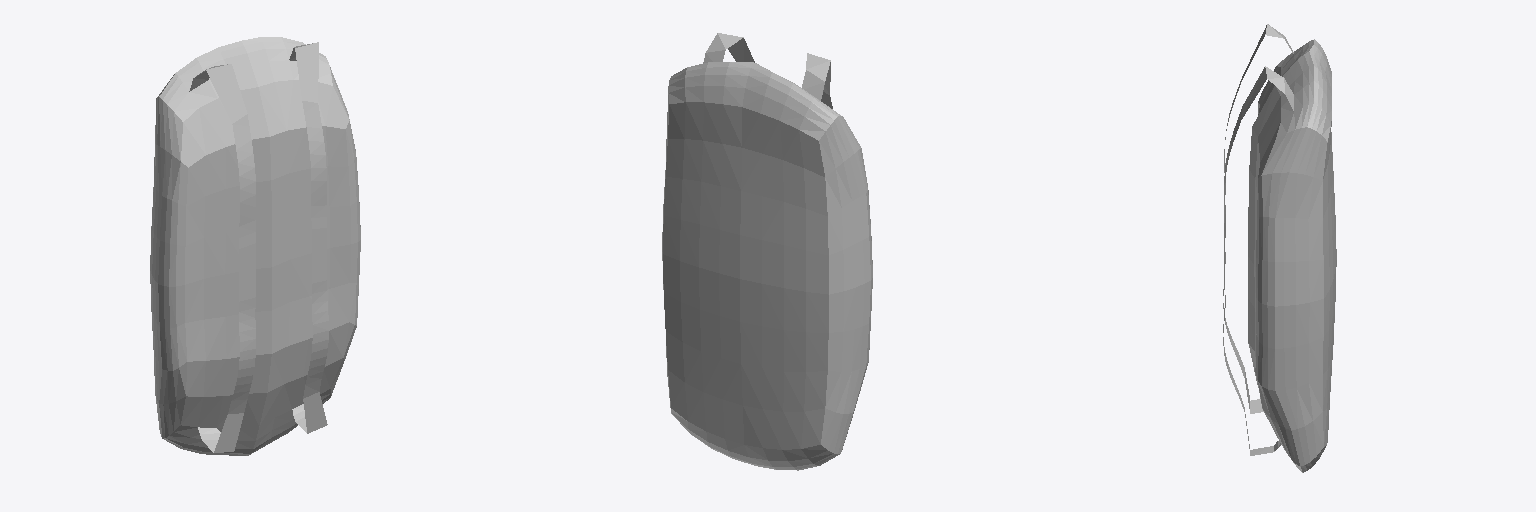
Rendered from backpack_3.obj.
3 views of the same model, side by side, from view 1: azimuth 30°, elevation 25°; view 2: azimuth 150°, elevation 25°; view 3: azimuth 270°, elevation 25° (orthographic).
Visible parts, largest first — view 1: backpack_3; view 2: backpack_3; view 3: backpack_3.
Part boxes in pixels (bbox=[...]): backpack_3: bbox=[150, 37, 360, 455]; backpack_3: bbox=[662, 33, 872, 470]; backpack_3: bbox=[1223, 24, 1336, 472].
Bounding box in the file's own units: 0.7388 × 1.44 × 0.3614.